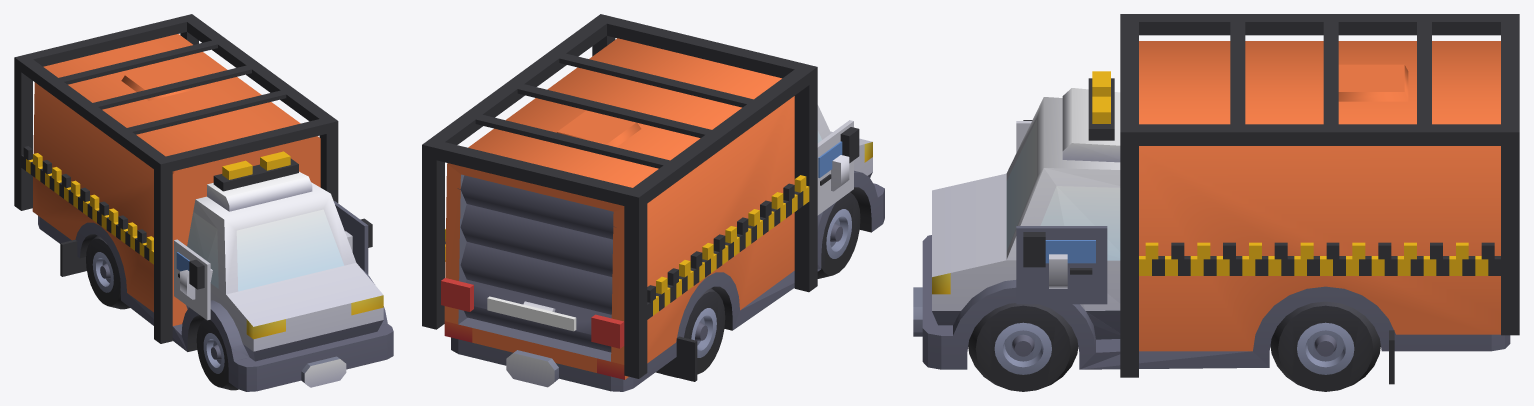
File: delivery_truck.glb
The picture shows the model from 3 angles, left to right: view 1: azimuth 30°, elevation 25°; view 2: azimuth 150°, elevation 25°; view 3: azimuth 270°, elevation 25°; orthographic projection. The views are drawn at different scales.
Parts seen in each view (by area): view 1: body, bumper_front, wheel-back-right, wheel-front-right, door_right, door_left, mirror_right; view 2: body, door, bumper_rear, wheel-front-right, wheel-back-right, door_right, mirror_right, bumper_front; view 3: body, wheel-back-left, wheel-front-left, door_left, bumper_front, mirror_left.
Boxes of the visible parts, box(x1,y1,x2,y2) form: body: box(14, 14, 384, 388); bumper_front: box(231, 307, 393, 391); wheel-back-right: box(86, 235, 129, 309); wheel-front-right: box(196, 319, 238, 390); door_right: box(174, 239, 210, 320); door_left: box(334, 201, 368, 274); mirror_right: box(189, 259, 204, 289); body: box(422, 14, 882, 388); door: box(457, 175, 615, 352); bumper_rear: box(444, 321, 633, 391); wheel-front-right: box(817, 192, 860, 278); wheel-back-right: box(663, 288, 725, 377); door_right: box(817, 120, 853, 215); mirror_right: box(840, 127, 859, 163); bumper_front: box(862, 157, 884, 223); body: box(932, 14, 1519, 384); wheel-back-left: box(1270, 301, 1380, 391); wheel-front-left: box(968, 303, 1078, 391); door_left: box(1016, 226, 1107, 304); bumper_front: box(913, 235, 960, 369); mirror_left: box(1023, 232, 1045, 267).
Bounding box in the file's own units: 1.5 × 1.65 × 3.25.
1 material, 1 textured.
